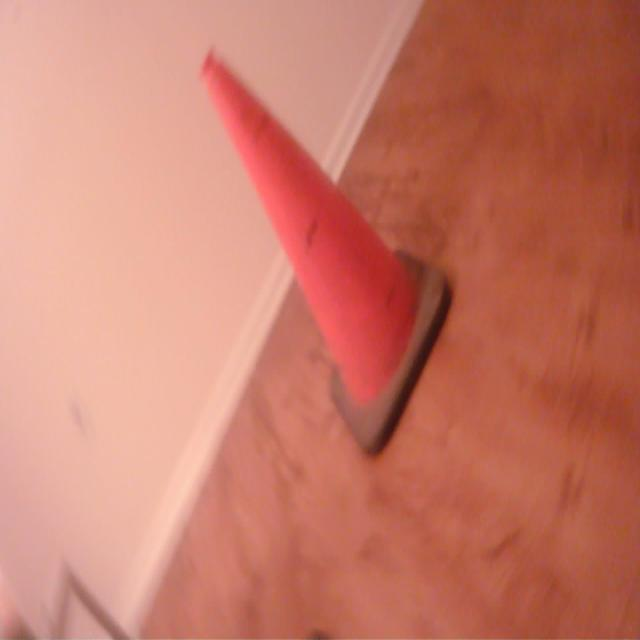traffic cone: (195, 40, 460, 466)
